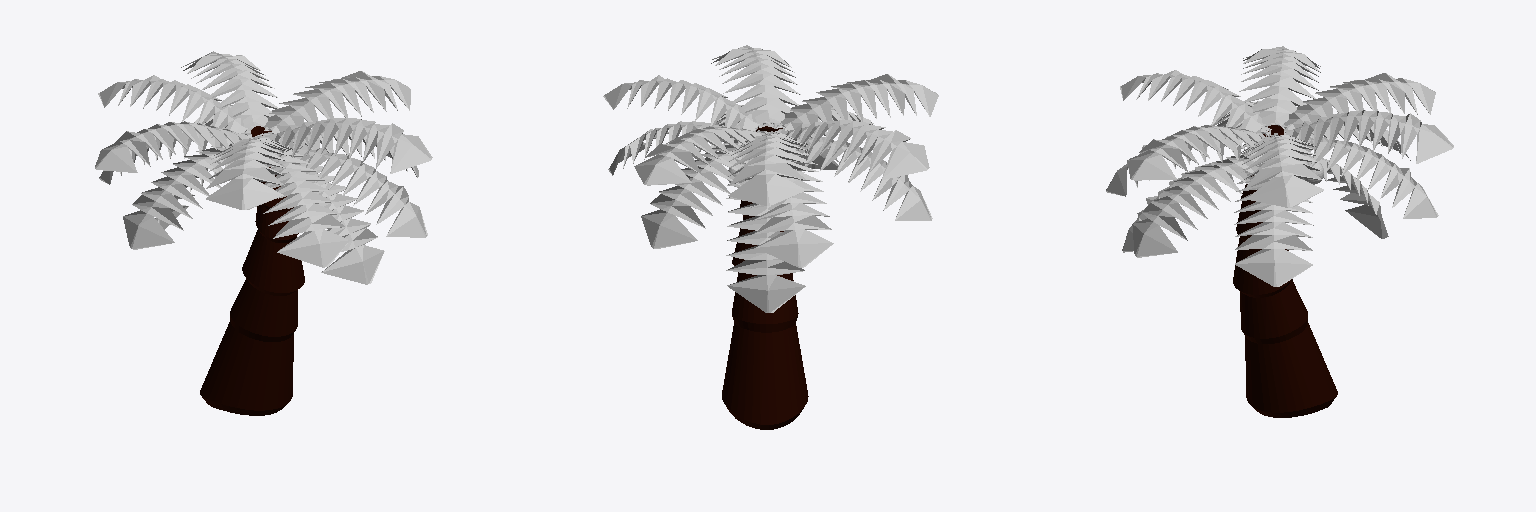
The model's file is coconutTree.obj.
3 views of the same model, side by side, from view 1: azimuth 30°, elevation 25°; view 2: azimuth 150°, elevation 25°; view 3: azimuth 270°, elevation 25° (orthographic).
Parts seen in each view (by area): view 1: Plane.005, Cylinder; view 2: Plane.005, Cylinder; view 3: Plane.005, Cylinder.
Boxes of the visible parts, x1=… form: Plane.005: x1=95, y1=51, x2=432, y2=284; Cylinder: x1=200, y1=126, x2=304, y2=415; Plane.005: x1=603, y1=45, x2=938, y2=312; Cylinder: x1=722, y1=126, x2=808, y2=429; Plane.005: x1=1106, y1=46, x2=1453, y2=286; Cylinder: x1=1233, y1=125, x2=1337, y2=417.
Bounding box in the file's own units: 9.24 × 8.35 × 8.7.